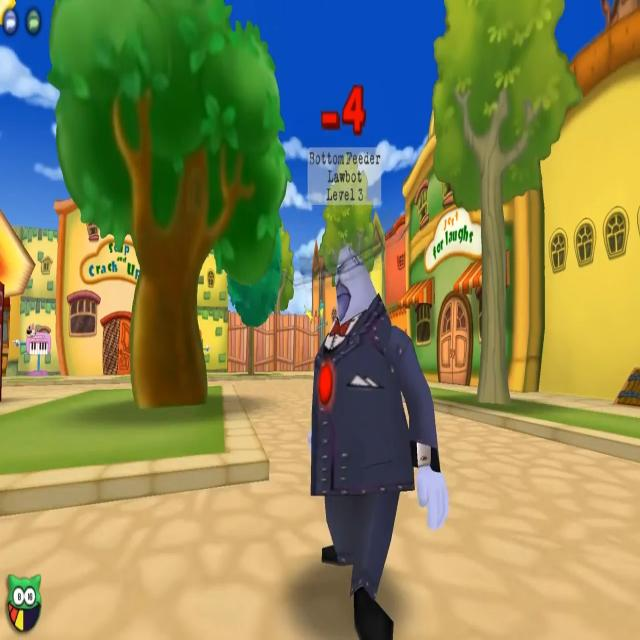bottomfeeder: (304, 148, 449, 640)
